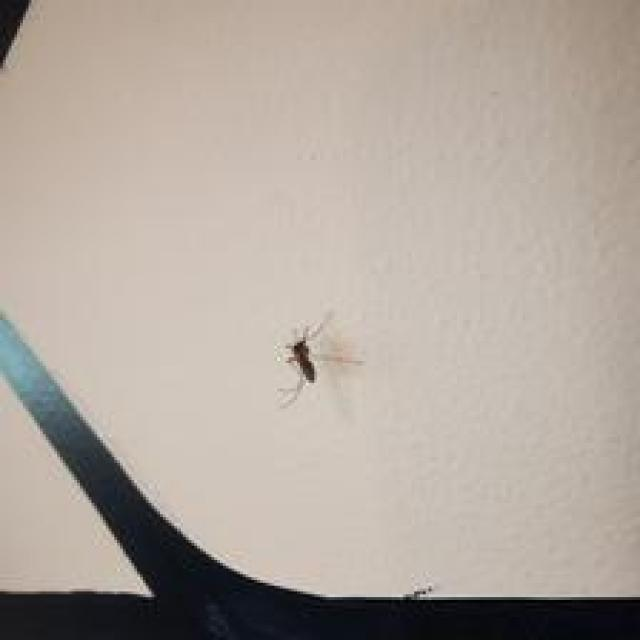Culex: (273, 308, 364, 408)
